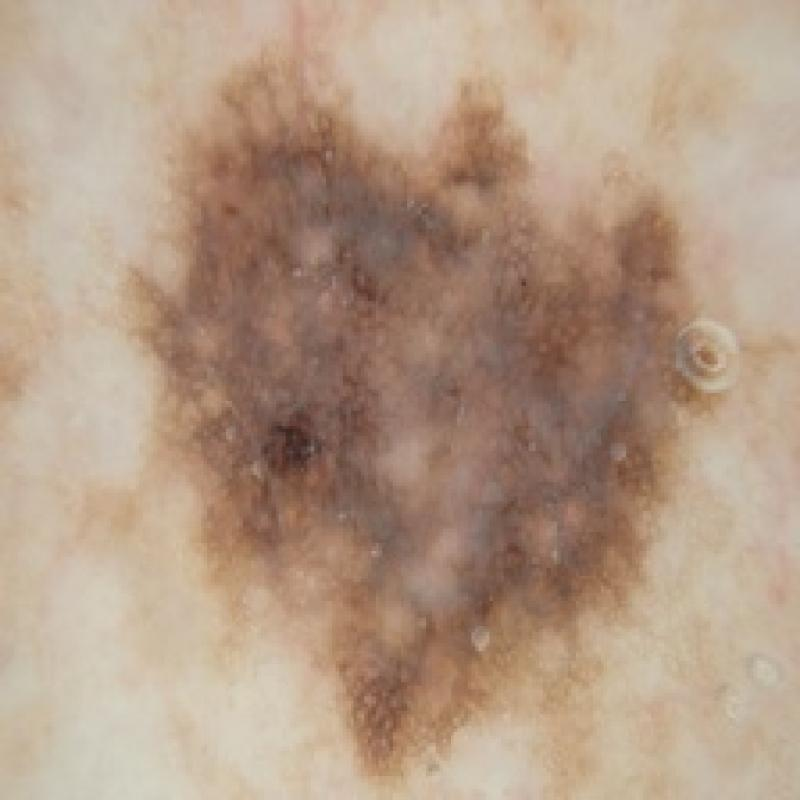malignant: (99, 17, 745, 772)
